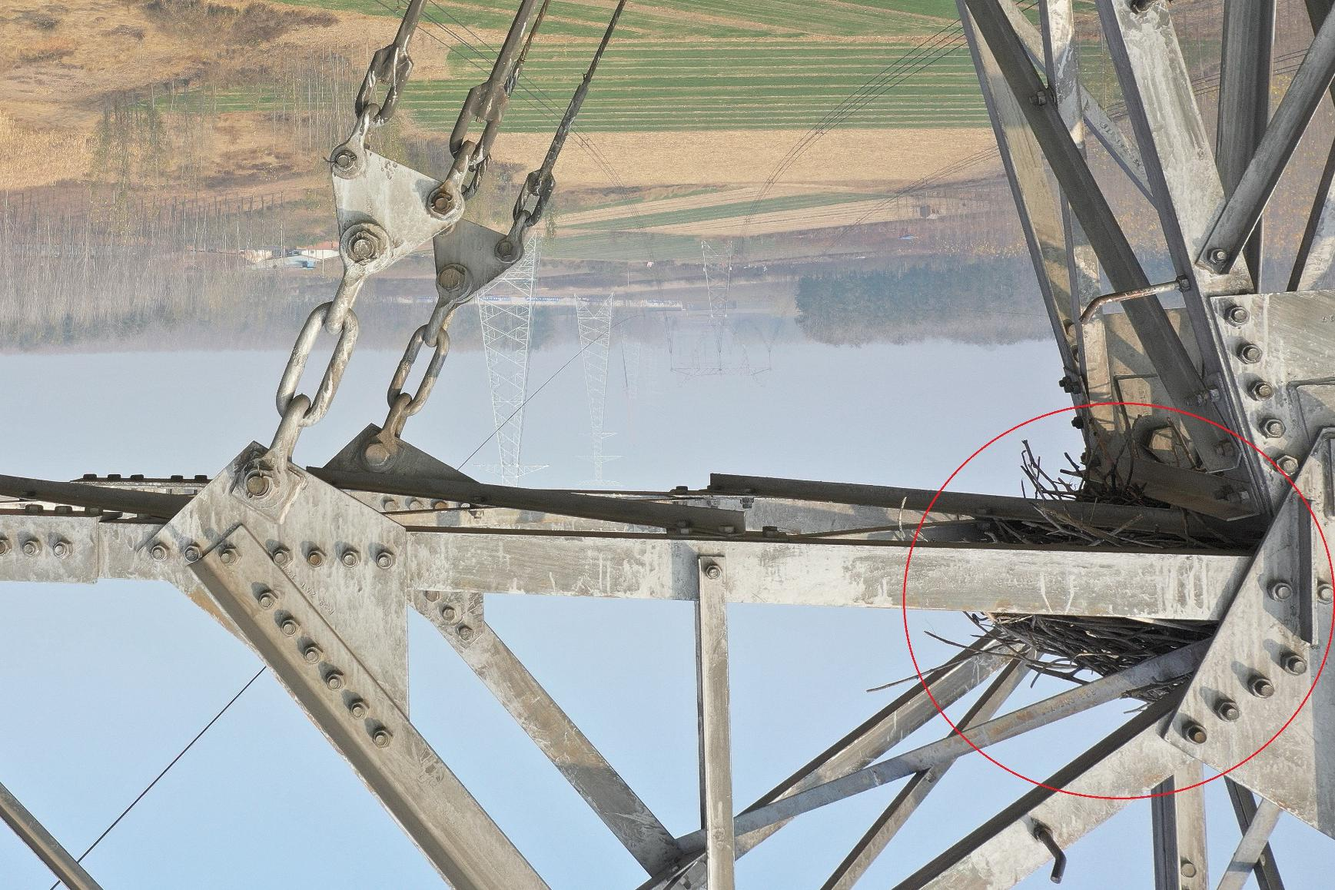nest: (938, 423, 1225, 699)
